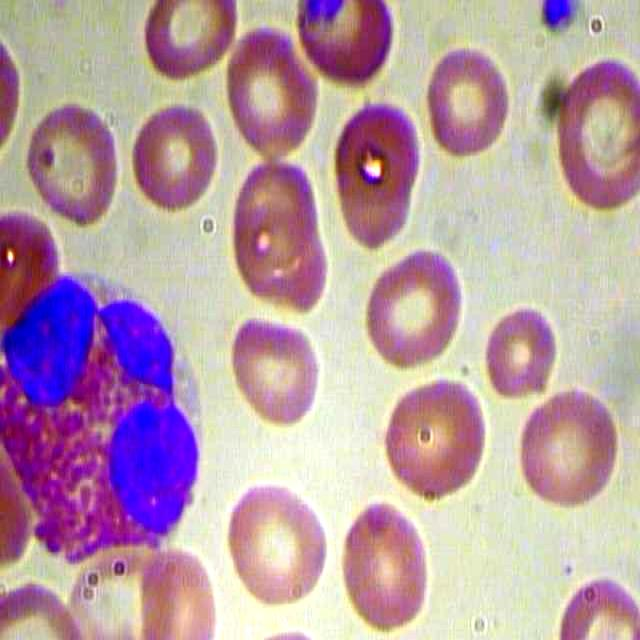RBC: (326, 98, 427, 254), (358, 241, 467, 383), (221, 469, 330, 611), (335, 492, 444, 633), (224, 24, 327, 165), (378, 372, 488, 504), (515, 385, 629, 512), (554, 53, 640, 220), (22, 97, 129, 228), (225, 311, 324, 432), (125, 100, 224, 221), (423, 42, 511, 166), (143, 1, 242, 87), (483, 296, 562, 403)
WBC: (1, 268, 219, 563)
